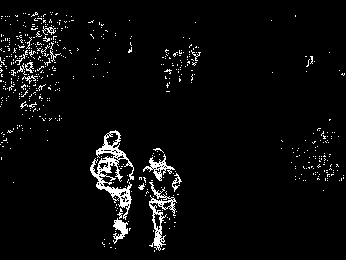person: (88, 129, 136, 247), (137, 146, 181, 253)
